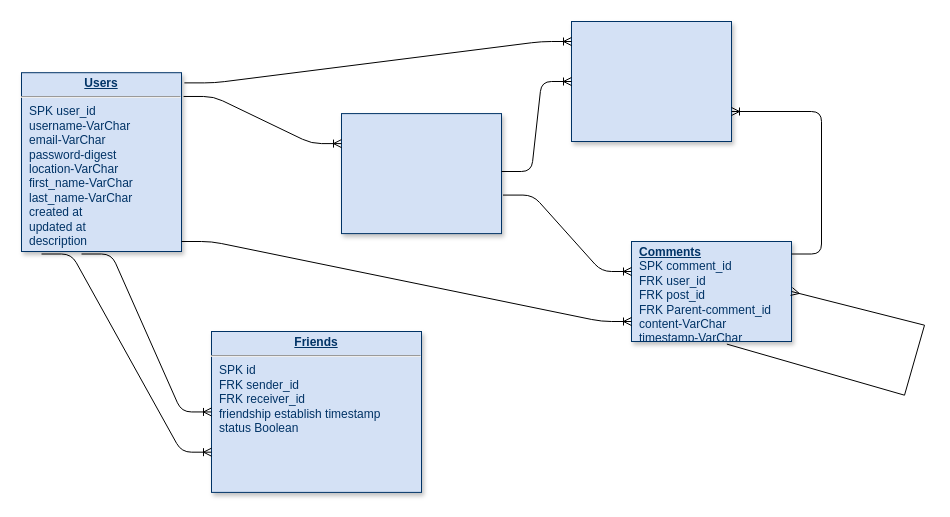
Image size: 950x517. Some labels were removed from this diagram. Here are the shapes that lost their labels. From the top down, the centre of each, then its label:
At (652,82): "Likes SPK like_id FRK user_id FRK post_id FRK comment_id timestamp-VarChar".
At (422,175): "Posts SPK post_id FRK user_id title-VarChar content-VarChar timestamp-VarChar".
